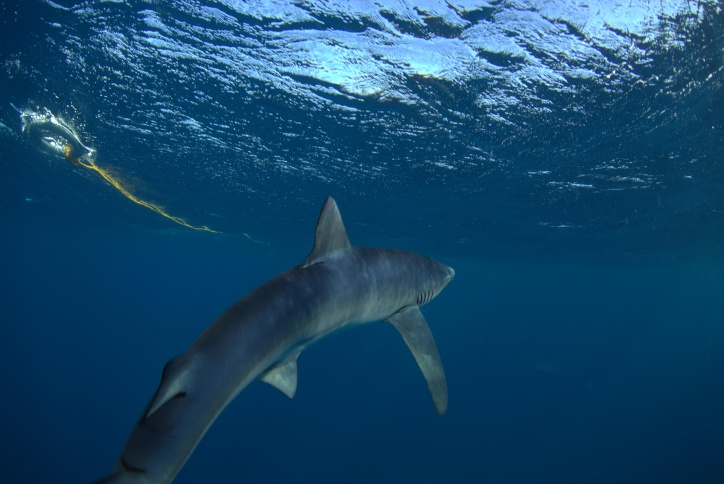Azul: (79, 186, 507, 484)
